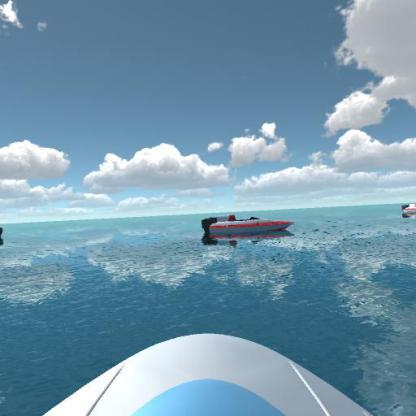usv3: (198, 208, 299, 246), (397, 196, 415, 224)
